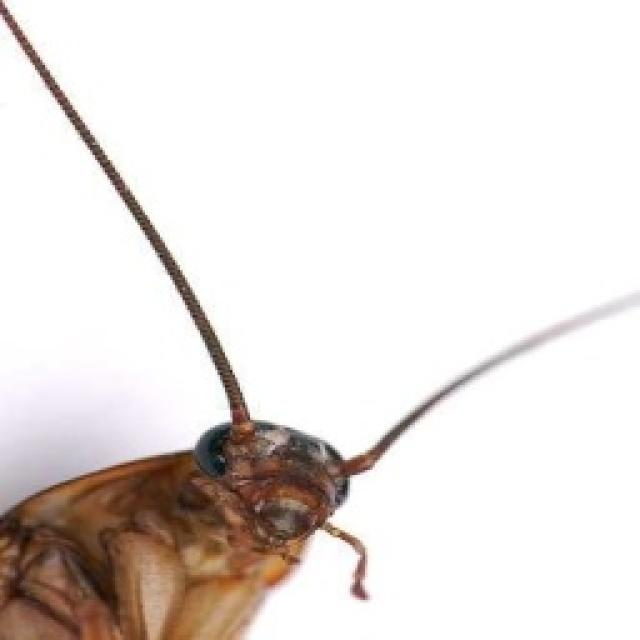cockroach: (1, 418, 353, 638)
